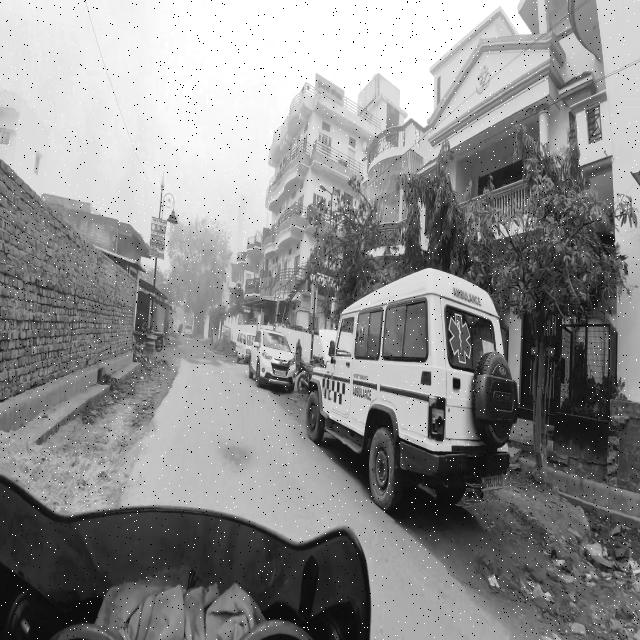Car: (305, 272, 521, 508), (250, 322, 299, 403)
